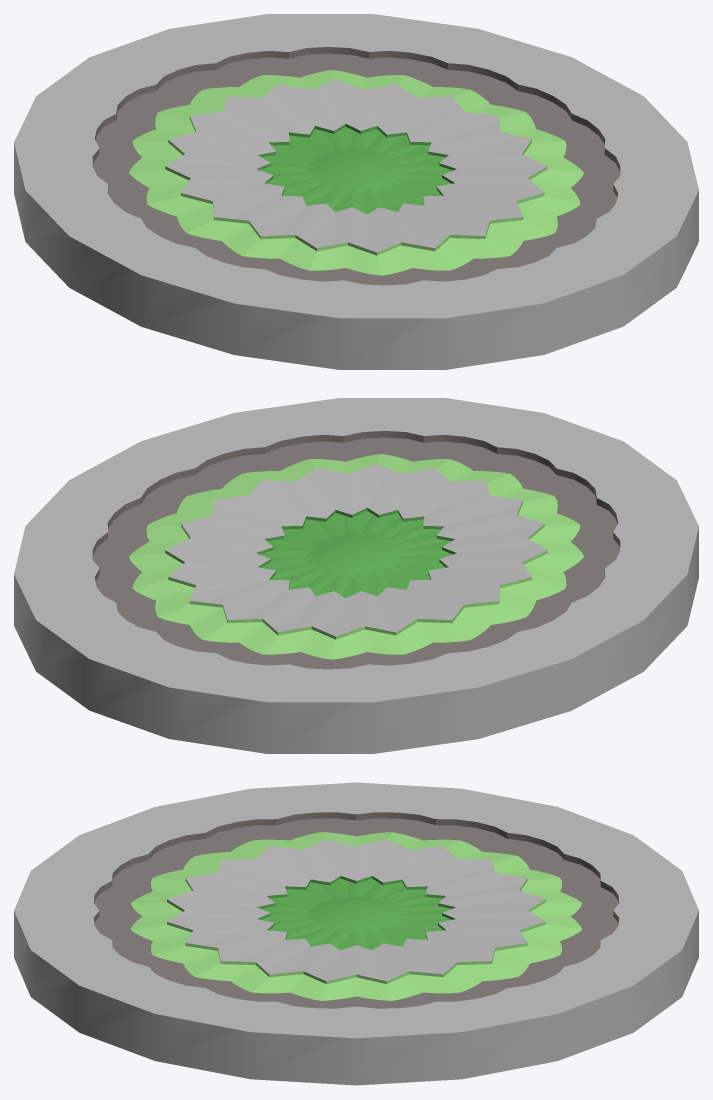
File: CoinV1.fbx
The picture shows the model from 3 angles, top to bottom: view 1: azimuth 30°, elevation 25°; view 2: azimuth 150°, elevation 25°; view 3: azimuth 270°, elevation 25°; orthographic projection. The views are drawn at different scales.
Parts seen in each view (by area): view 1: pCylinder1; view 2: pCylinder1; view 3: pCylinder1.
Part boxes in pixels (bbox=[...]): pCylinder1: bbox=[14, 14, 698, 369]; pCylinder1: bbox=[14, 398, 698, 753]; pCylinder1: bbox=[14, 782, 698, 1085].
Bounding box in the file's own units: 1.63 × 0.1469 × 1.84.
